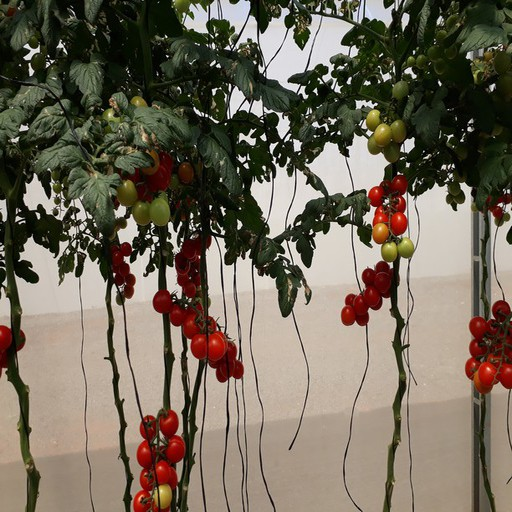green tomato bunch: (366, 78, 408, 161)
mixed tomato bunch: (115, 136, 197, 227)
red tomato bunch: (151, 286, 245, 384), (134, 405, 186, 512), (464, 298, 512, 395), (341, 261, 402, 328), (369, 172, 409, 236), (171, 229, 211, 293), (101, 243, 136, 299), (1, 323, 25, 391)
